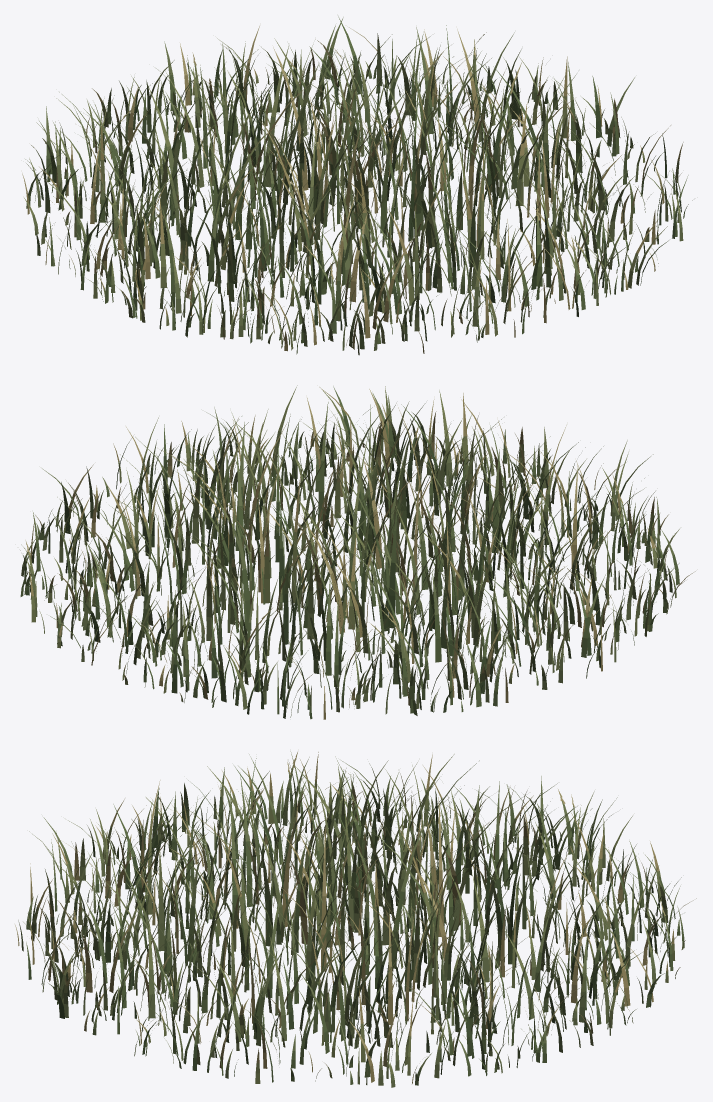
Rendered from dune-grass.glb.
The picture shows the model from 3 angles, top to bottom: view 1: azimuth 30°, elevation 25°; view 2: azimuth 150°, elevation 25°; view 3: azimuth 270°, elevation 25°; orthographic projection.
Parts seen in each view (by area): view 1: dune-grass; view 2: dune-grass; view 3: dune-grass.
Part boxes in pixels (<box>): dune-grass: <box>22,16,692,355</box>; dune-grass: <box>20,385,695,719</box>; dune-grass: <box>15,751,696,1087</box>.
Bounding box in the file's own units: 1.93 × 0.412 × 1.92.
